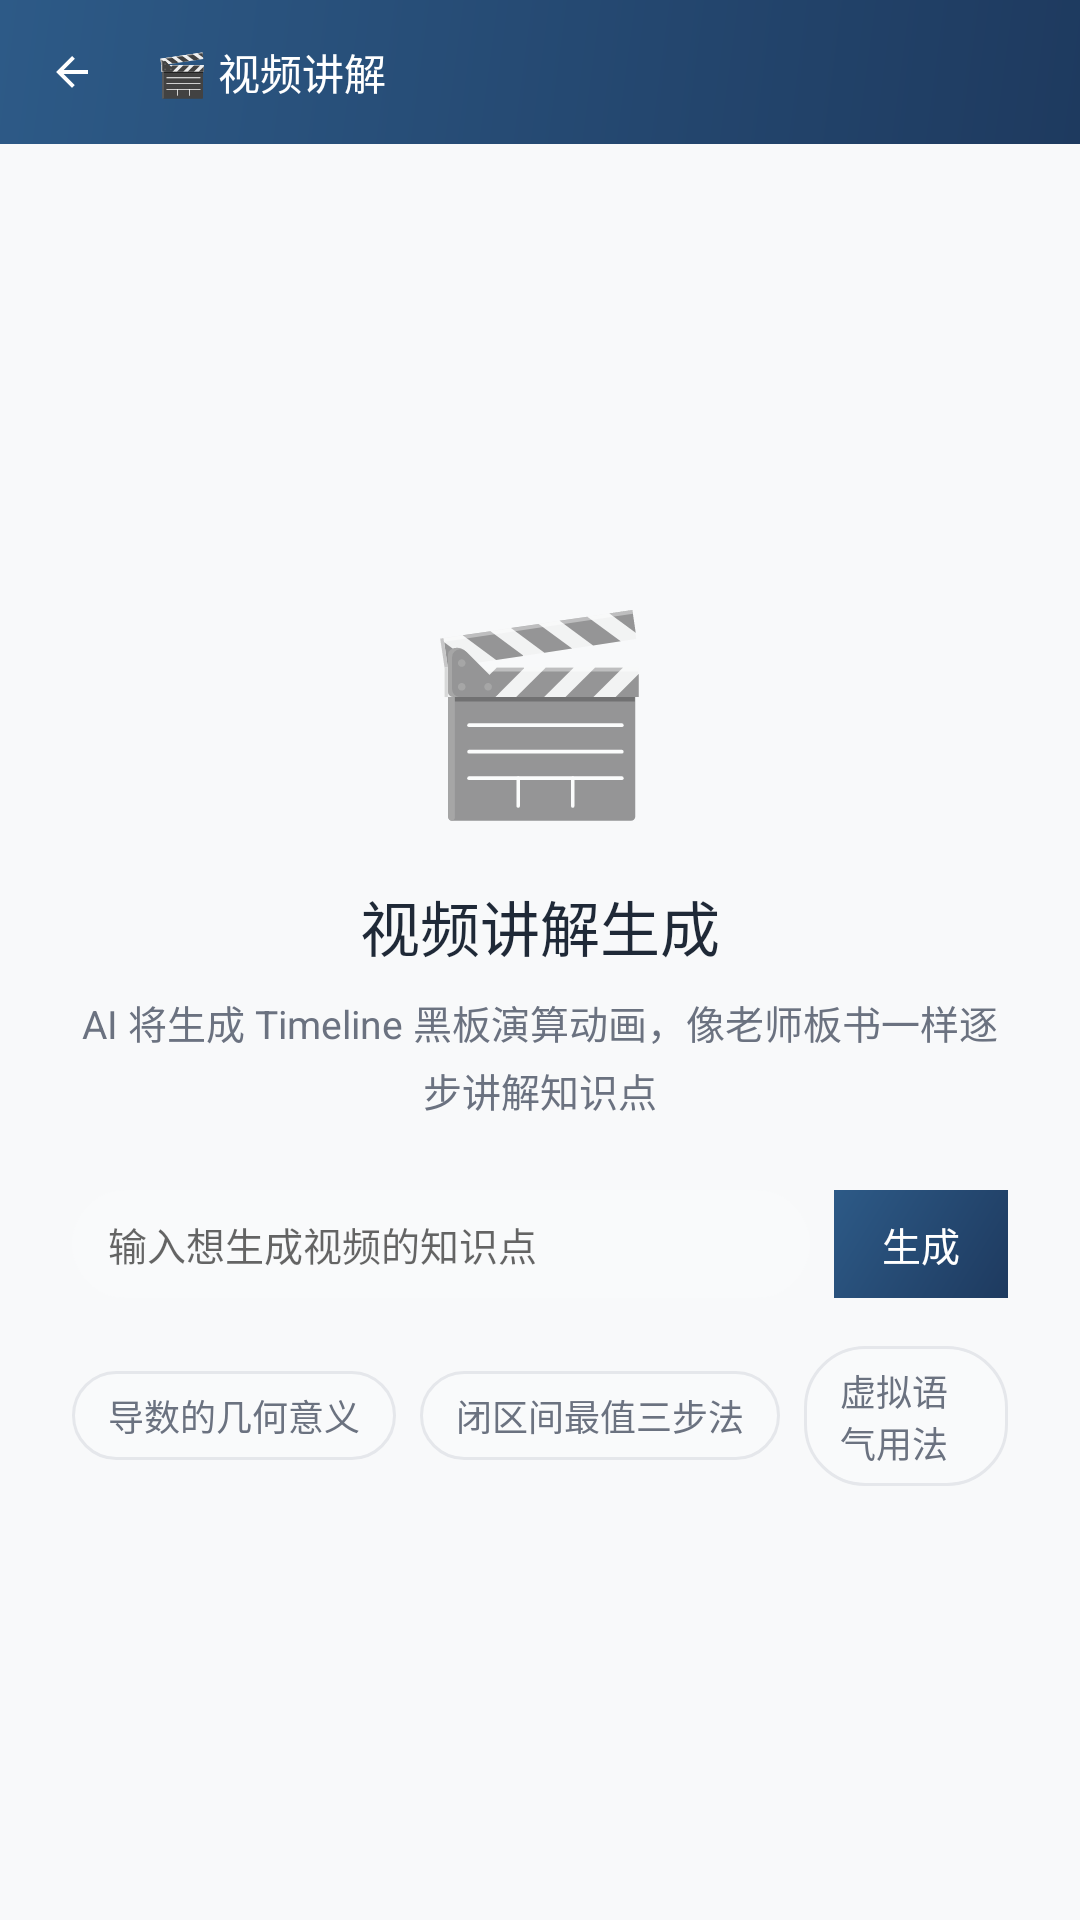

Where to tap for icons on this 1080×1920 app screen, as [x,y]:
back: [72,72]
